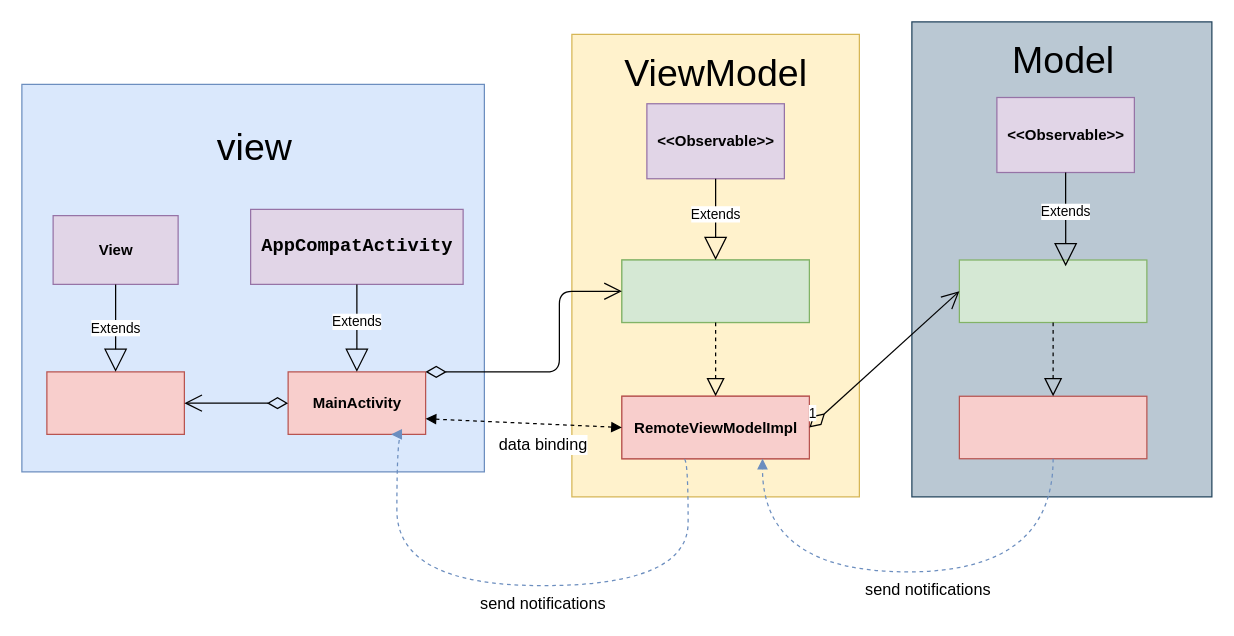
Some shapes in this 1234 by 636 pixel diagram are drawn without their labels. The centre of each missing label's shape, as x and y in pixels:
<<RemoteModel>>: pixel 1052 290
<<RemoteViewModel>>: pixel 715 290
Joystick: pixel 115 402
RemoteModelImpl: pixel 1052 427
